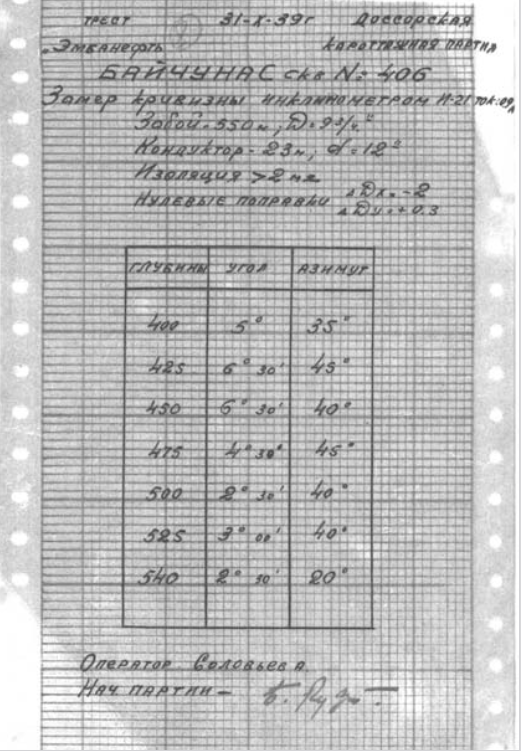Bordered: (127, 247, 373, 630)
